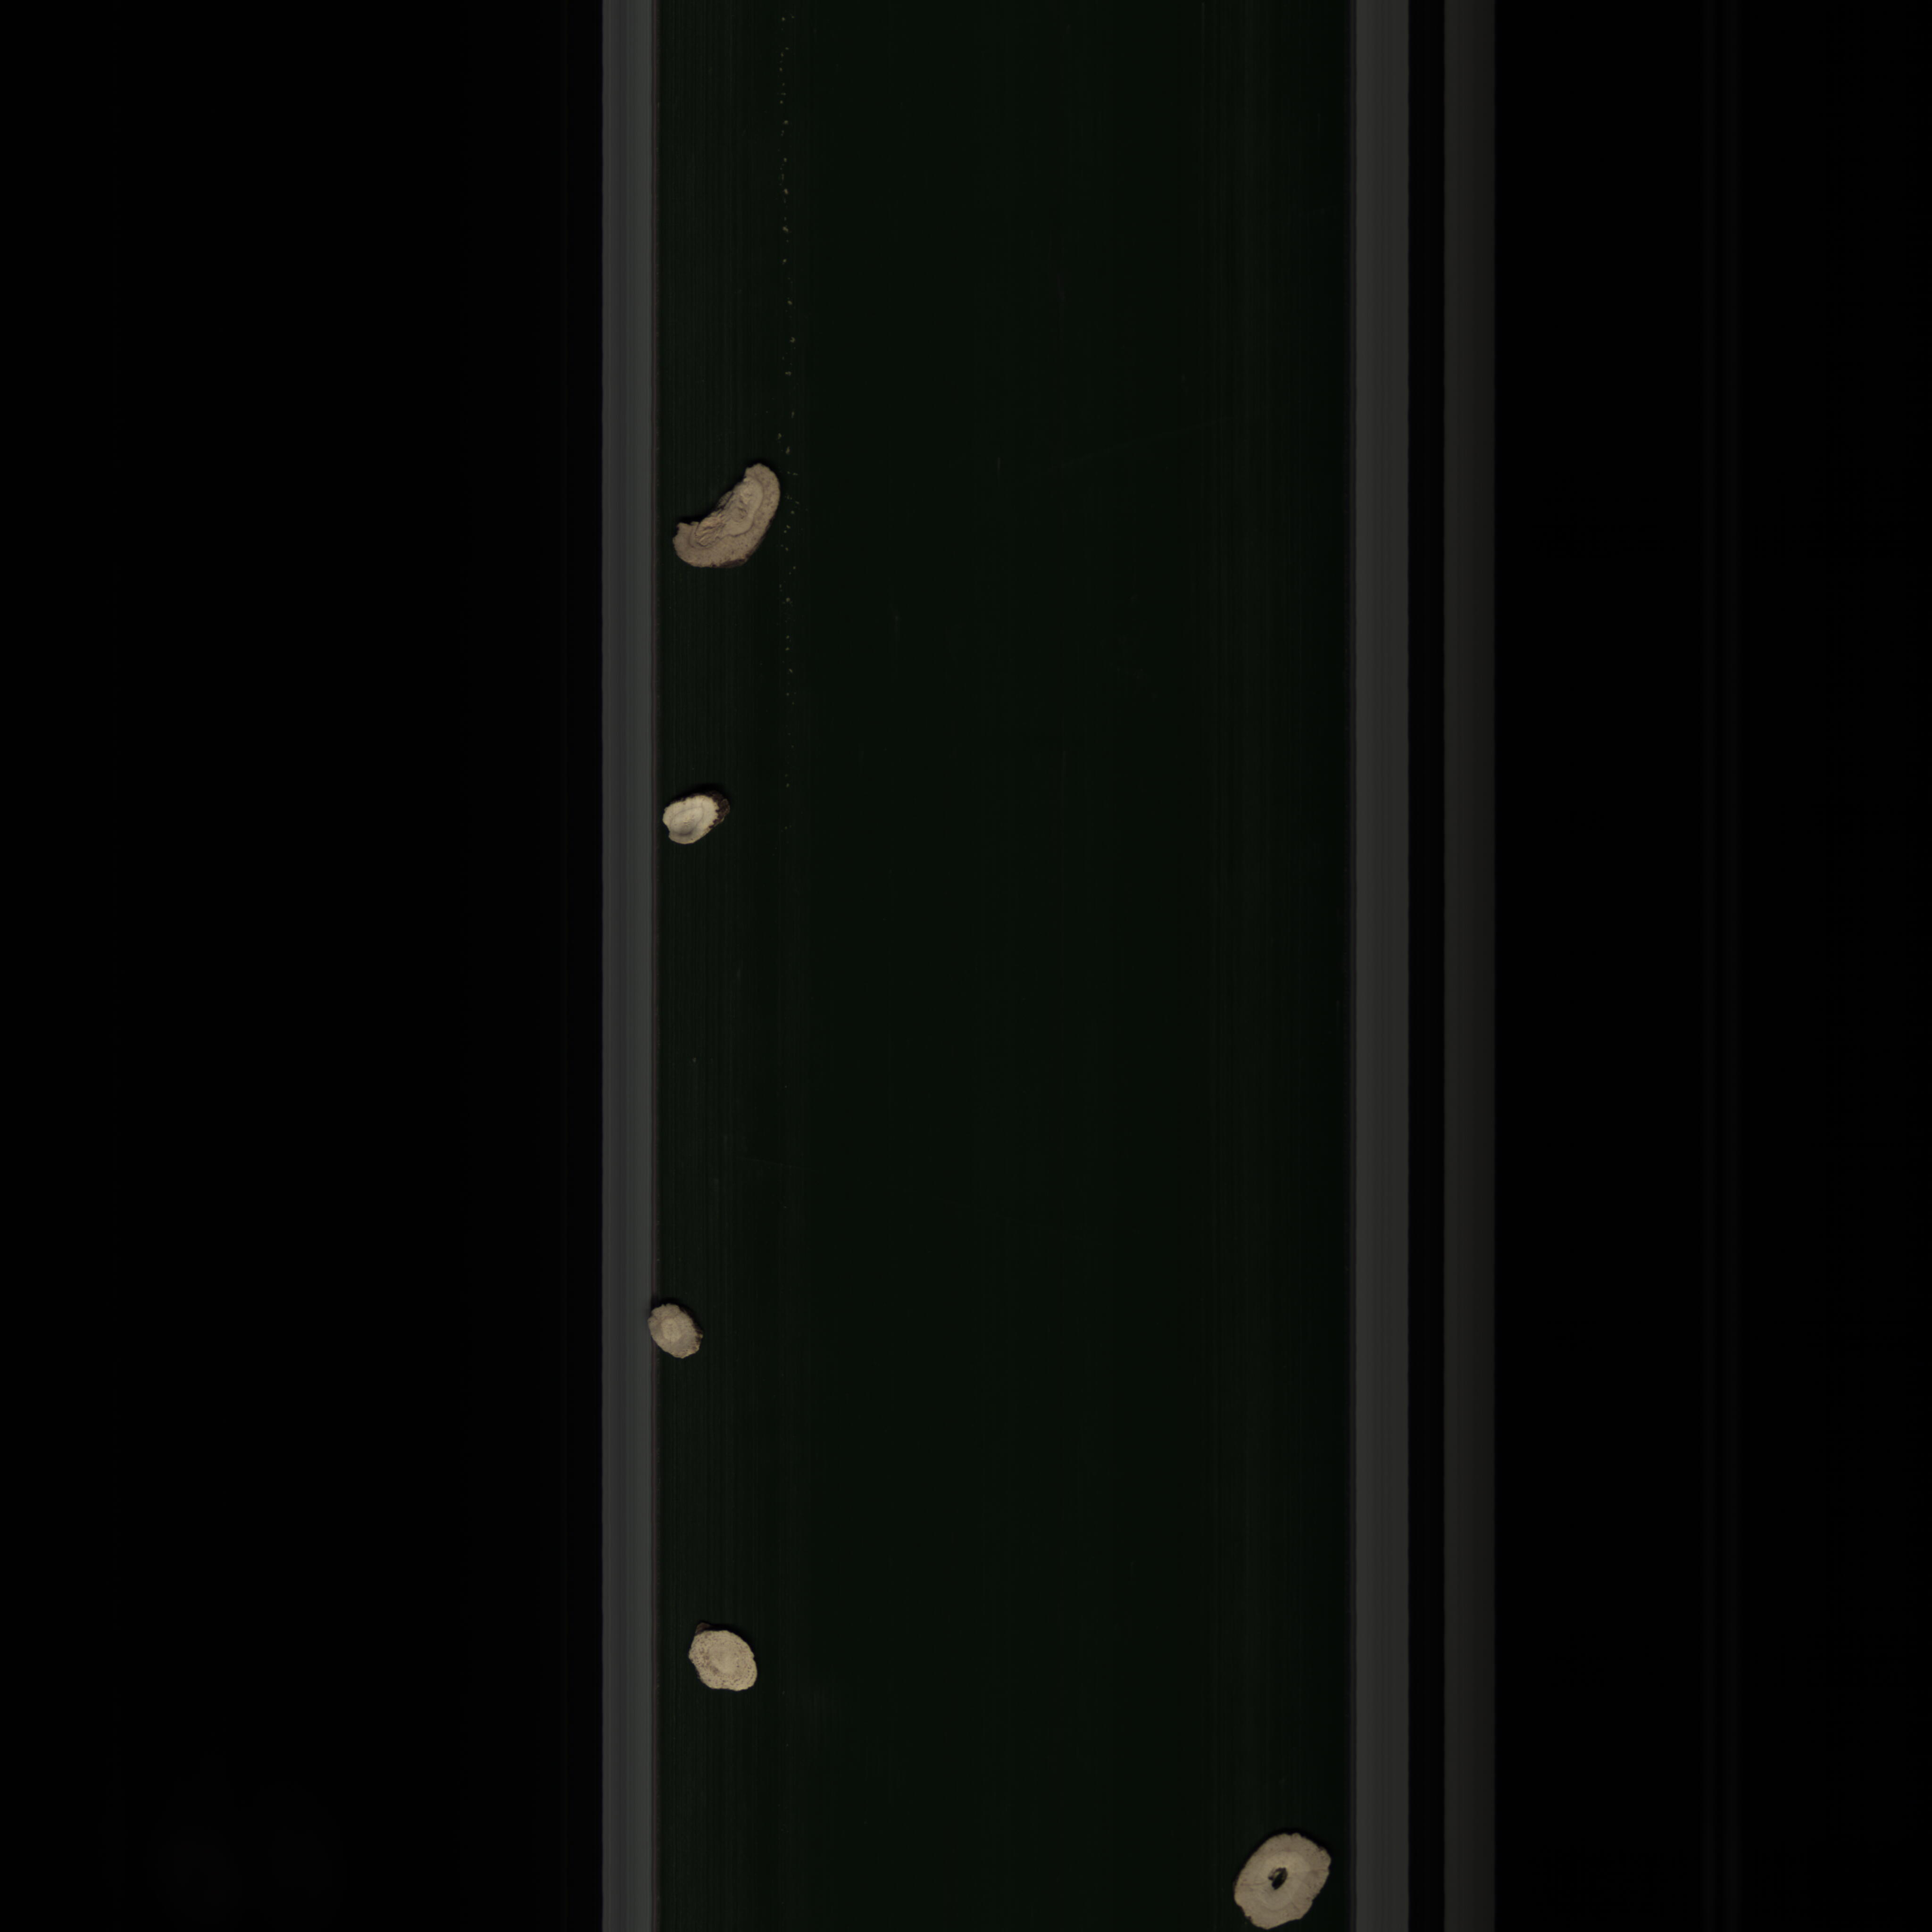debris: (672, 448, 784, 586)
hole: (1231, 1817, 1343, 1932)
